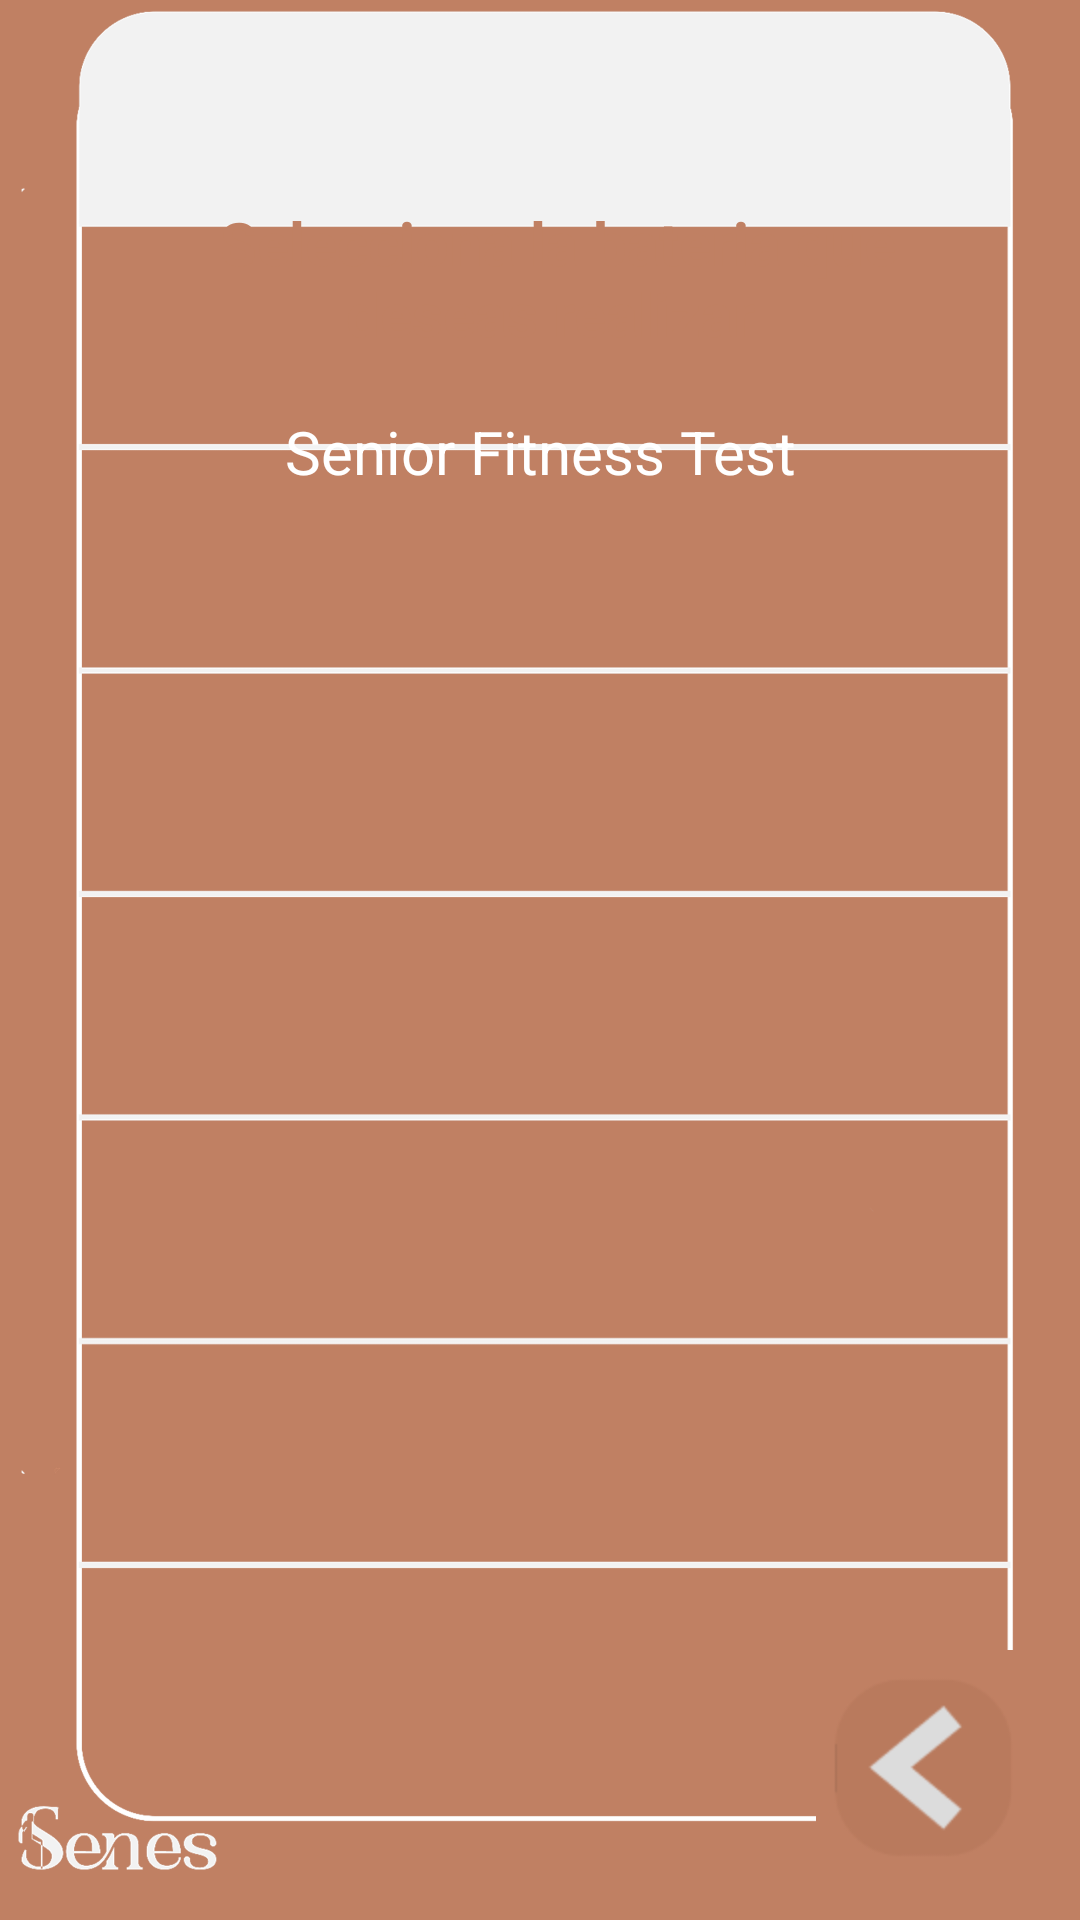

Screen size 1080px×1920px. Icon name, then its center in pixels as point (x, y):
regresar: point (915, 1767)
